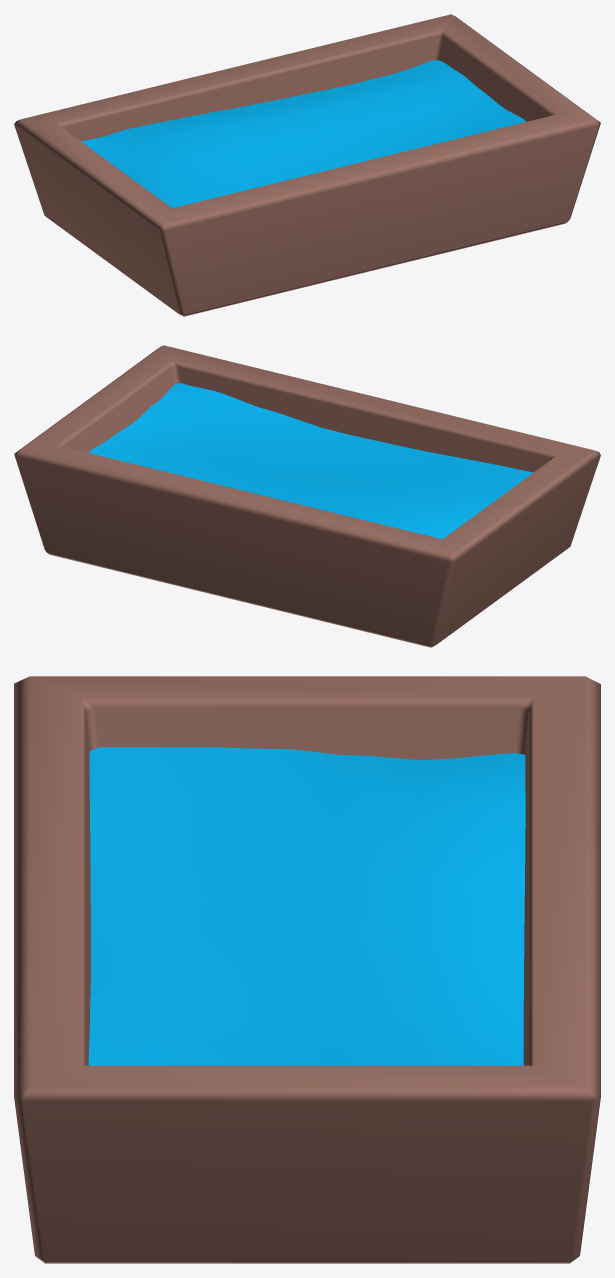
Rendered from Farm_5_Drinking_bowl_1.glb.
3 renders of one model, top to bottom at view 1: azimuth 30°, elevation 25°; view 2: azimuth 150°, elevation 25°; view 3: azimuth 270°, elevation 25°, orthographic. The views are drawn at different scales.
Parts seen in each view (by area): view 1: Farm_5_Drinking_bowl_1; view 2: Farm_5_Drinking_bowl_1; view 3: Farm_5_Drinking_bowl_1.
Boxes of the visible parts, box(x1,y1,x2,y2) form: Farm_5_Drinking_bowl_1: box(14, 14, 600, 316); Farm_5_Drinking_bowl_1: box(14, 345, 600, 647); Farm_5_Drinking_bowl_1: box(14, 676, 600, 1263).
Size of the model in its own units: 1.46 by 0.324 by 0.8605.
Materials: 1 (1 with a texture image).
